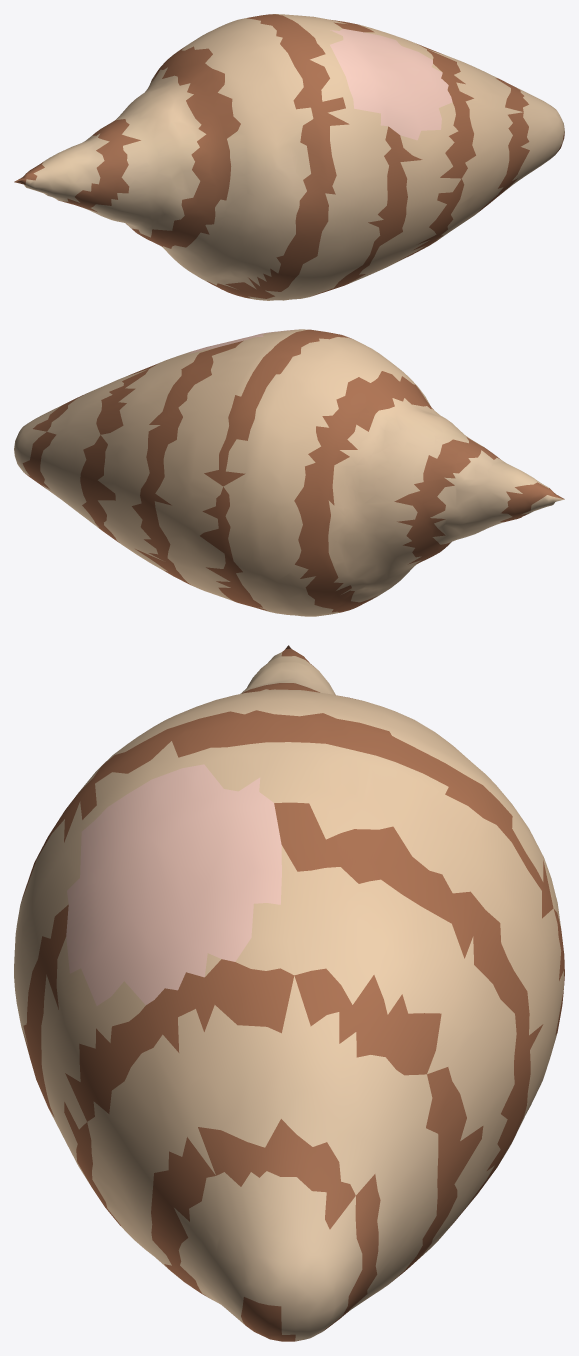
File: shore_whelk.glb
3 renders of one model, top to bottom at view 1: azimuth 30°, elevation 25°; view 2: azimuth 150°, elevation 25°; view 3: azimuth 270°, elevation 25°, orthographic. The views are drawn at different scales.
Parts seen in each view (by area): view 1: shore_whelk; view 2: shore_whelk; view 3: shore_whelk.
Boxes of the visible parts, left/top/right/bottom form: shore_whelk: left=14, top=14, right=564, bottom=300; shore_whelk: left=14, top=329, right=564, bottom=616; shore_whelk: left=14, top=645, right=564, bottom=1341.
Size of the model in its own units: 14.07 by 6 by 6.39.
